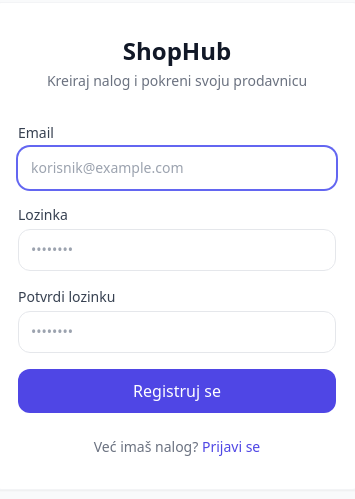
RegisterPage › shows error when passwords do not match
Type "new@example.com" into the field with placeholder "korisnik@example.com" at [177, 168], box [18,147,336,189]
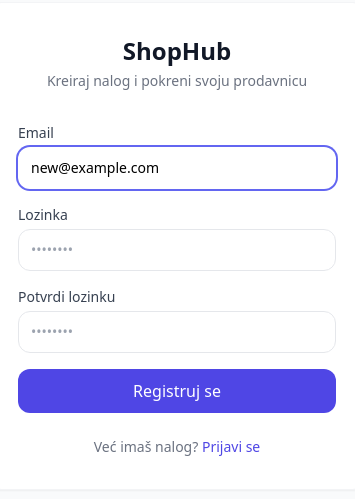
Type "password123" into the password field with placeholder "••••••••" below "Lozinka" at [177, 250], box [18,229,336,271]
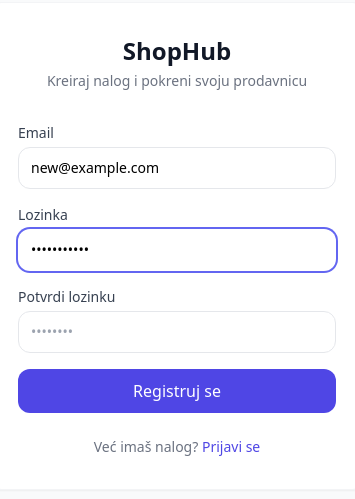
Type "different" into the password field with placeholder "••••••••" at [177, 332], box [18,311,336,353]
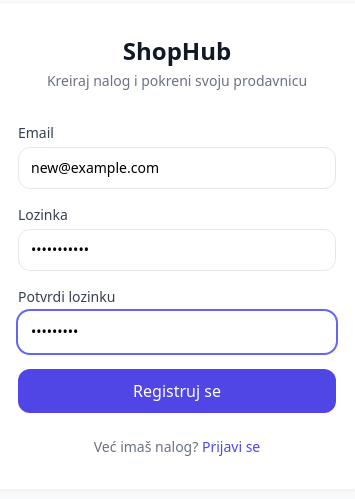
Click the button "Registruj se" at [177, 391], box [18,369,336,413]
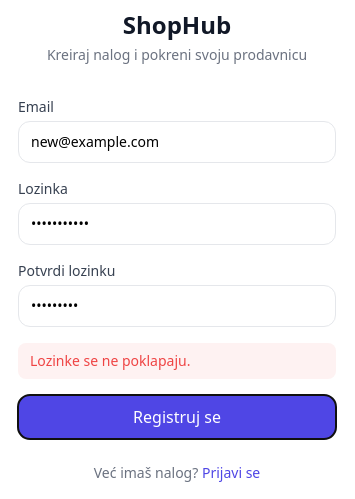
expect the text "Lozinke se ne poklapaju." is shown: met, box [18,343,336,379]
